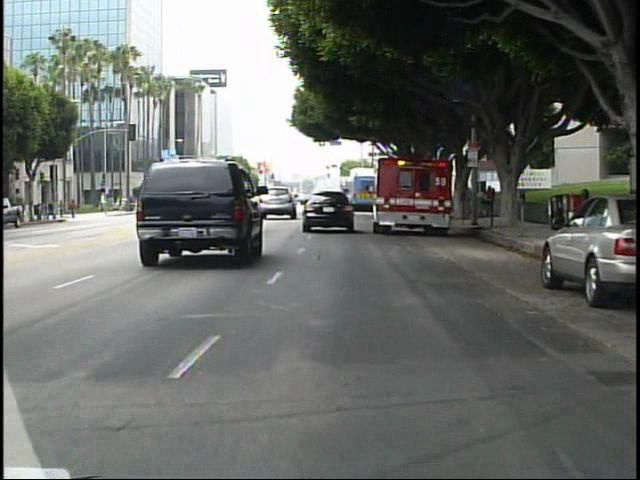person: (483, 184, 496, 219), (68, 196, 81, 222), (57, 197, 69, 221)
